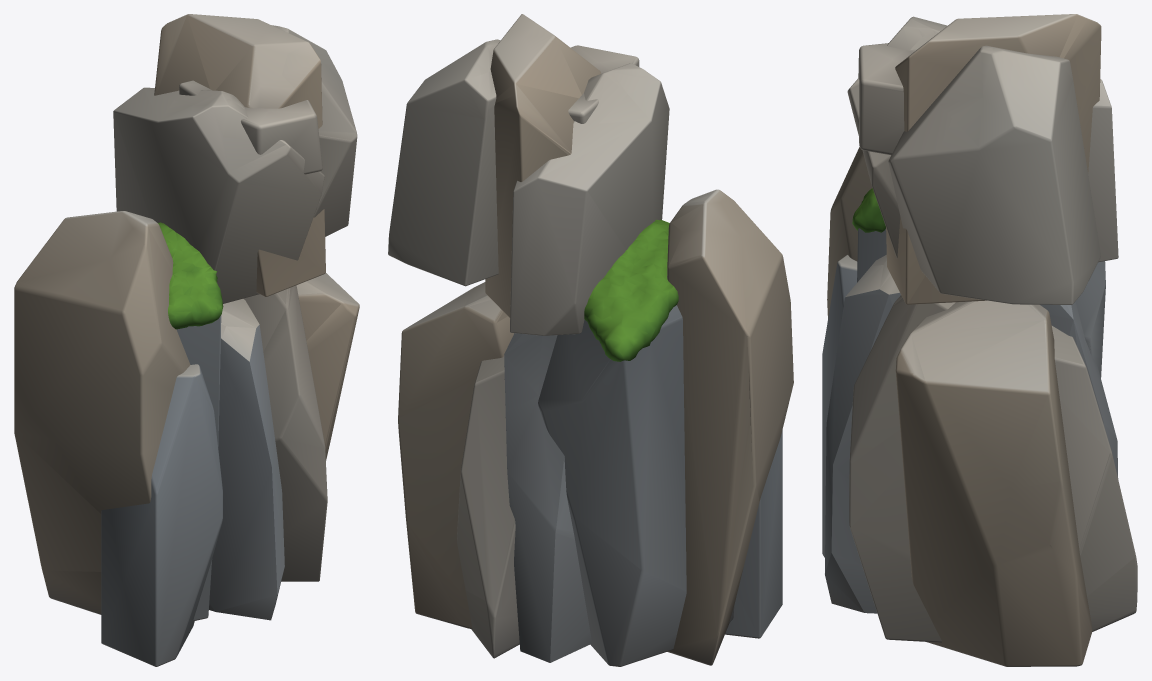
Rendered from glade_bluff_spur_lod1.glb.
3 views of the same model, side by side, from view 1: azimuth 30°, elevation 25°; view 2: azimuth 150°, elevation 25°; view 3: azimuth 270°, elevation 25° (orthographic). The views are drawn at different scales.
Parts seen in each view (by area): view 1: glade_bluff_spur.001, moss.001; view 2: glade_bluff_spur.001, moss.001; view 3: glade_bluff_spur.001, moss.001.
Part boxes in pixels (x1,y1,x2,y2): glade_bluff_spur.001: [14, 14, 359, 666]; moss.001: [158, 222, 223, 329]; glade_bluff_spur.001: [388, 14, 793, 666]; moss.001: [584, 219, 678, 361]; glade_bluff_spur.001: [822, 14, 1137, 666]; moss.001: [852, 188, 885, 232].
Bounding box in the file's own units: 19.85 × 31.97 × 14.61.
